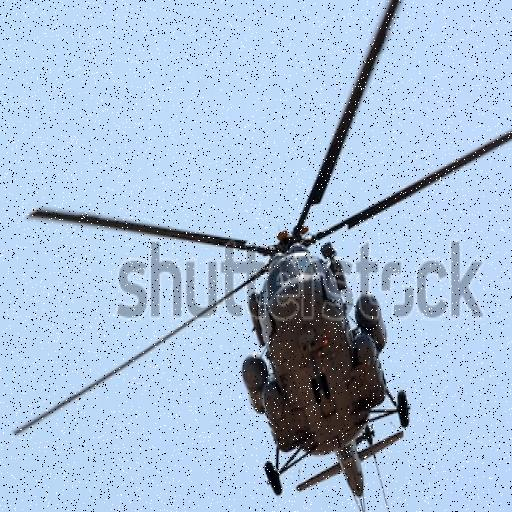helicopter: (23, 1, 512, 512)
